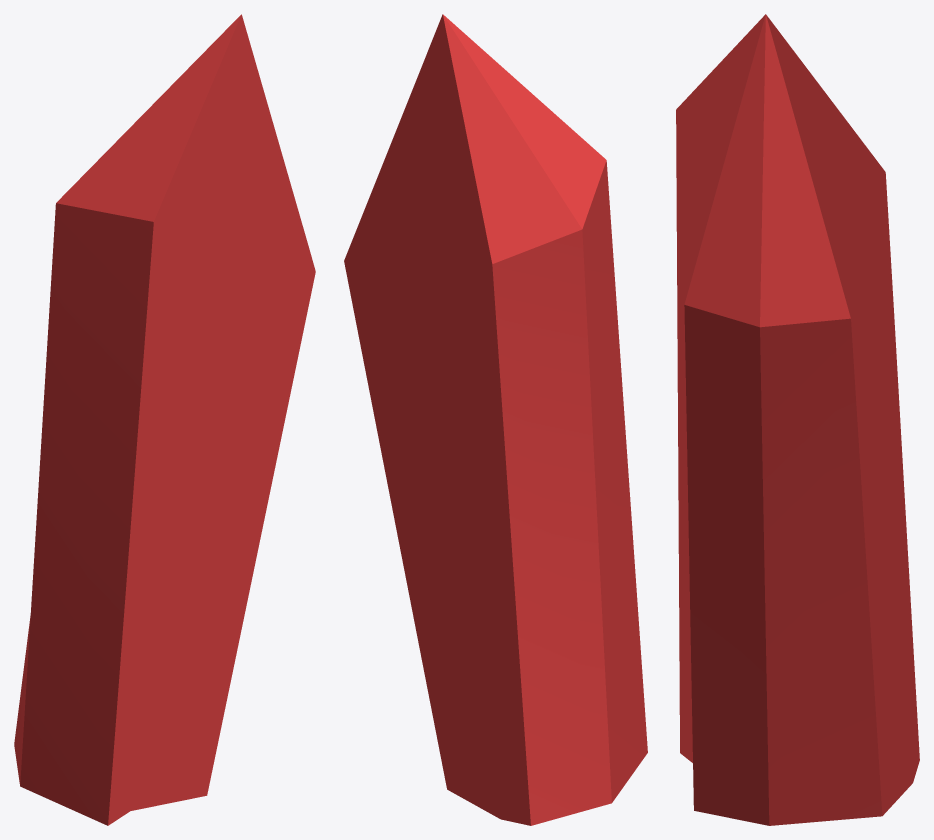
Rendered from Small_Crystal_5_LOD.fbx.
3 renders of one model, left to right at view 1: azimuth 30°, elevation 25°; view 2: azimuth 150°, elevation 25°; view 3: azimuth 270°, elevation 25°, orthographic. The views are drawn at different scales.
Visible parts, largest first — view 1: pCube74; view 2: pCube74; view 3: pCube74.
Boxes of the visible parts, x1=… form: pCube74: x1=14, y1=14, x2=315, y2=825; pCube74: x1=344, y1=14, x2=647, y2=825; pCube74: x1=676, y1=14, x2=919, y2=825.
Bounding box in the file's own units: 3.06 × 8.31 × 2.19.
